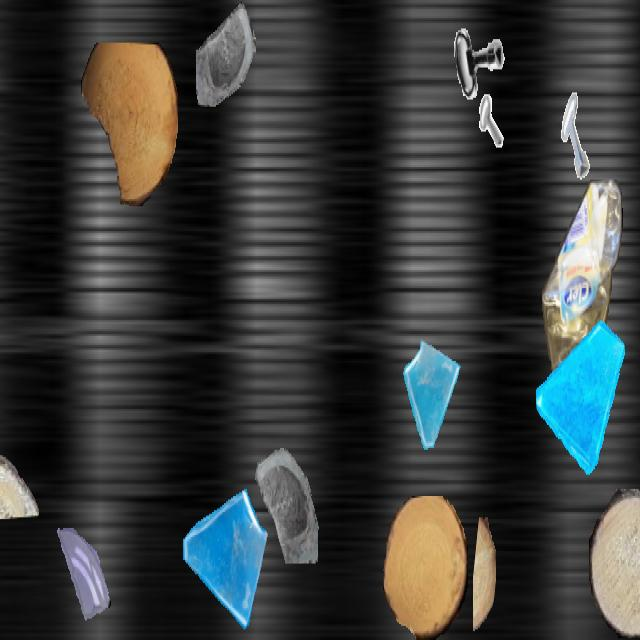glass: (179, 478, 269, 638), (536, 314, 626, 474), (245, 426, 321, 562), (400, 338, 464, 452), (196, 2, 256, 108), (54, 524, 112, 628)
metal: (447, 2, 509, 112), (553, 90, 603, 180), (455, 91, 503, 176)
plastic: (542, 180, 624, 439)
wood: (81, 43, 177, 206), (383, 496, 467, 638), (589, 489, 640, 638), (473, 518, 495, 638), (0, 455, 39, 519)
